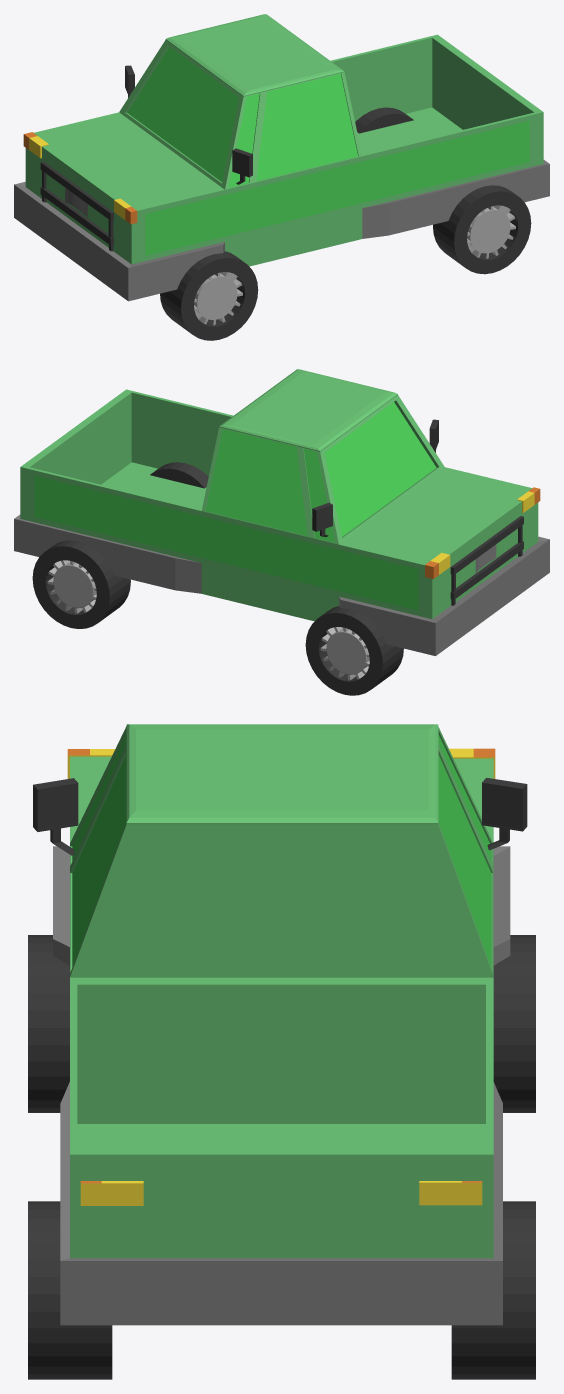
The model's file is Truck Green.fbx.
3 renders of one model, top to bottom at view 1: azimuth 30°, elevation 25°; view 2: azimuth 150°, elevation 25°; view 3: azimuth 270°, elevation 25°, orthographic. The views are drawn at different scales.
Parts seen in each view (by area): view 1: Truck Body.002, Tire.026, Tire.024, Spoke.026, Spoke.024, Pull Bar.004, Tire.027, Mirror.008, Front Light.016; view 2: Truck Body.002, Tire.027, Tire.025, Spoke.025, Spoke.027, Pull Bar.004, Tire.026, Mirror.009, Light Front.016; view 3: Truck Body.002, Tire.026, Tire.027, Tire.025, Tire.024, Mirror.008, Mirror.009, Front Light.017, Light Front.017.
Part boxes in pixels (x1=…): Truck Body.002: x1=14, y1=14, x2=549, y2=301; Tire.026: x1=433, y1=185, x2=531, y2=274; Tire.024: x1=160, y1=251, x2=258, y2=340; Spoke.026: x1=467, y1=205, x2=515, y2=258; Spoke.024: x1=194, y1=272, x2=242, y2=325; Pull Bar.004: x1=40, y1=161, x2=113, y2=251; Tire.027: x1=355, y1=107, x2=413, y2=133; Mirror.008: x1=232, y1=148, x2=252, y2=184; Front Light.016: x1=114, y1=198, x2=137, y2=224; Truck Body.002: x1=14, y1=369, x2=549, y2=655; Tire.027: x1=32, y1=540, x2=130, y2=628; Tire.025: x1=305, y1=606, x2=403, y2=695; Spoke.025: x1=320, y1=627, x2=369, y2=680; Spoke.027: x1=47, y1=560, x2=96, y2=613; Pull Bar.004: x1=450, y1=516, x2=523, y2=605; Tire.026: x1=150, y1=462, x2=208, y2=488; Mirror.009: x1=312, y1=503, x2=332, y2=536; Light Front.016: x1=425, y1=552, x2=450, y2=578; Truck Body.002: x1=53, y1=724, x2=510, y2=1325; Tire.026: x1=28, y1=1201, x2=112, y2=1379; Tire.027: x1=451, y1=1201, x2=535, y2=1379; Tire.025: x1=493, y1=935, x2=535, y2=1112; Tire.024: x1=28, y1=935, x2=69, y2=1112; Mirror.008: x1=33, y1=778, x2=78, y2=855; Mirror.009: x1=482, y1=777, x2=527, y2=849; Front Light.017: x1=80, y1=1181, x2=143, y2=1205; Light Front.017: x1=419, y1=1181, x2=482, y2=1205.
Bounding box in the file's own units: 404 × 197 × 210.
